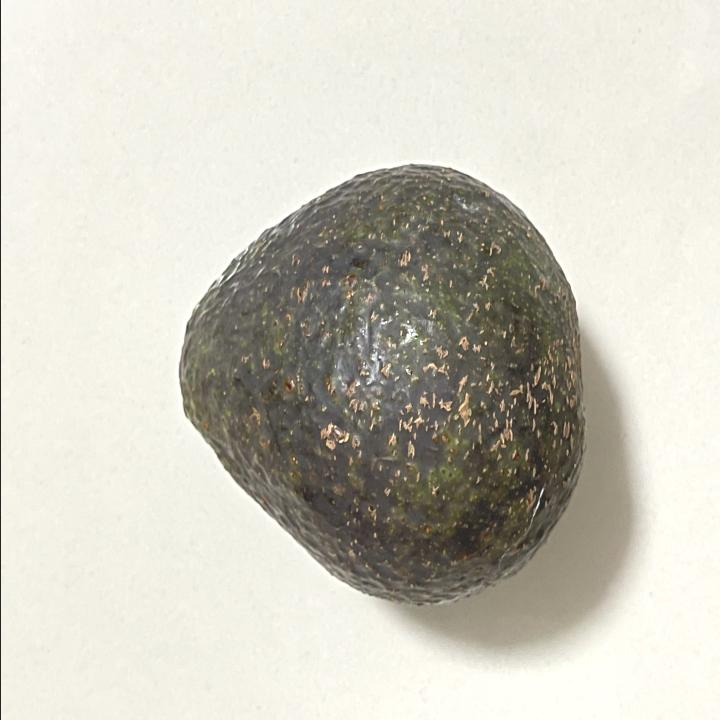Level1: (155, 148, 595, 620)
